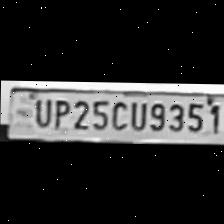1: (204, 100, 222, 134)
2: (68, 96, 90, 130)
3: (165, 98, 183, 132)
5: (88, 96, 108, 130), (184, 99, 204, 132)
9: (144, 97, 166, 131)
C: (108, 96, 128, 130)
P: (50, 95, 68, 129)
U: (30, 93, 52, 126), (127, 96, 147, 130)
